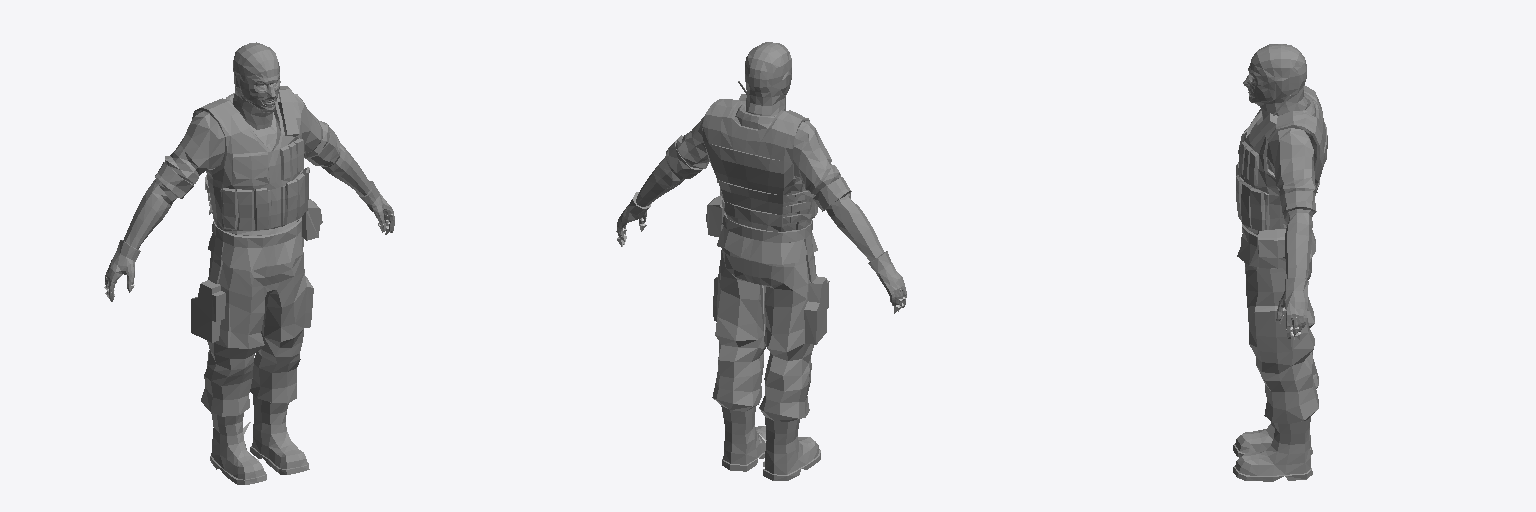
Rendered from Phoenix.obj.
The picture shows the model from 3 angles: view 1: azimuth 30°, elevation 25°; view 2: azimuth 150°, elevation 25°; view 3: azimuth 270°, elevation 25°; orthographic projection.
Parts seen in each view (by area): view 1: (null); view 2: (null); view 3: (null).
Part boxes in pixels (x1,y1,x2,y2): (null): (104,42,394,484); (null): (616,42,906,480); (null): (1233,44,1327,481).
Size of the model in its own units: 55.84 by 78.36 by 16.06.